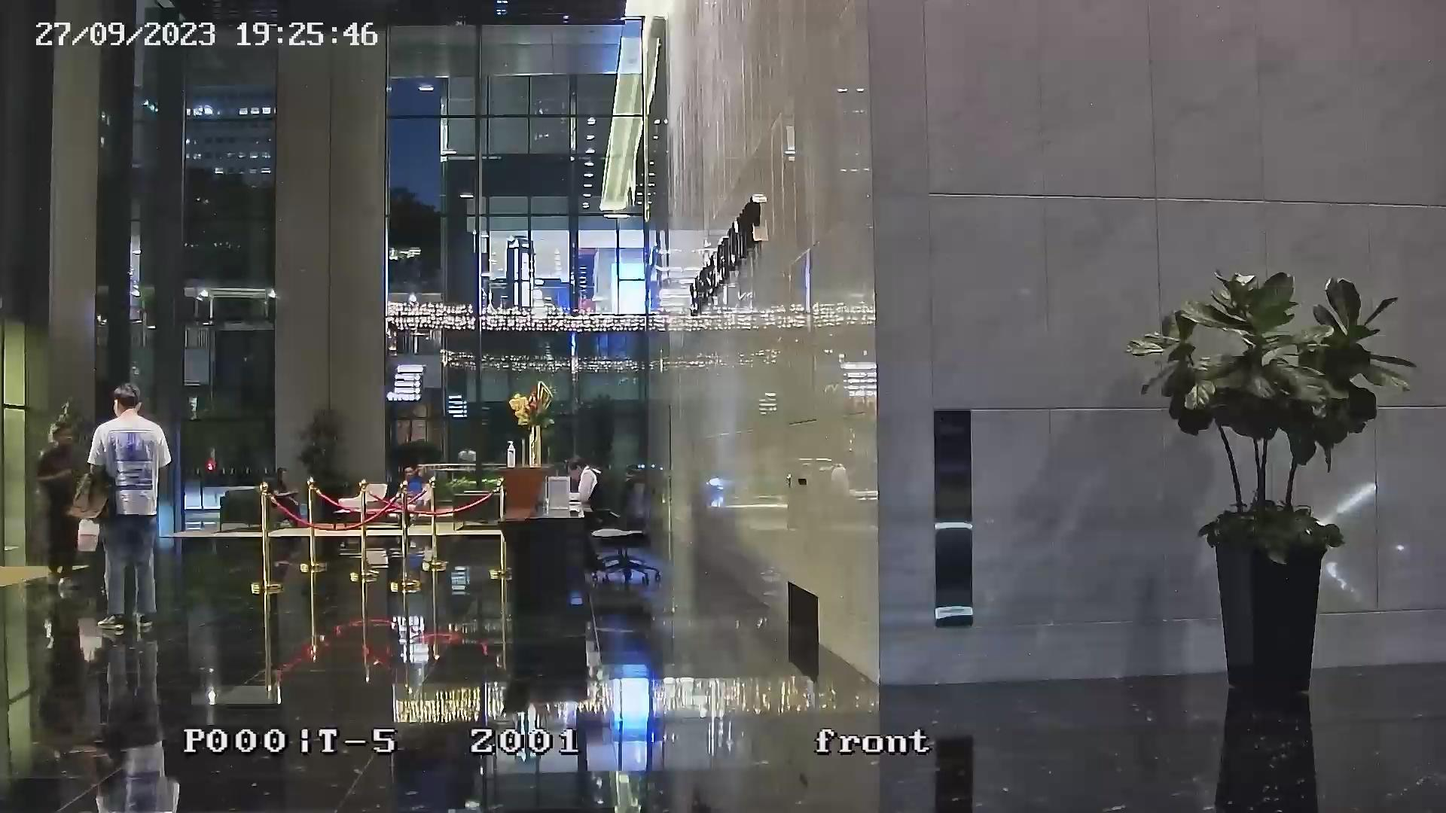person: (87, 382, 171, 633), (35, 415, 81, 588), (567, 456, 615, 575), (270, 469, 309, 529), (404, 465, 423, 502)
